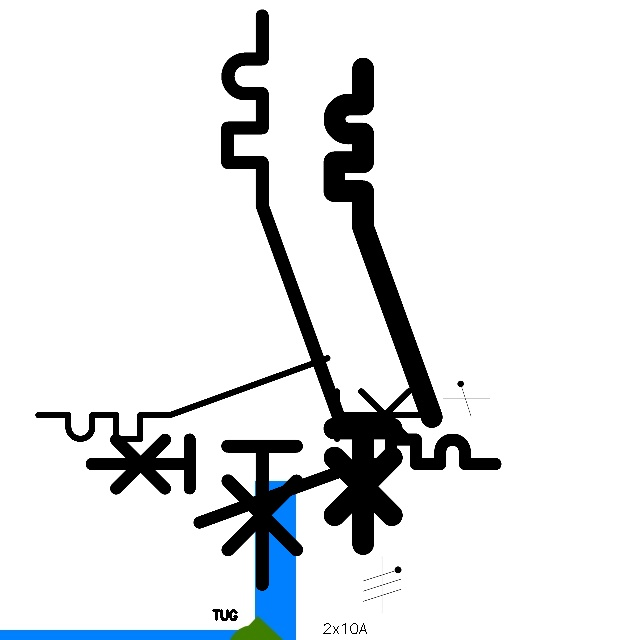interruptor_termomagnetico: (213, 1, 359, 599), (322, 56, 444, 556), (81, 429, 506, 533), (28, 348, 443, 449)
